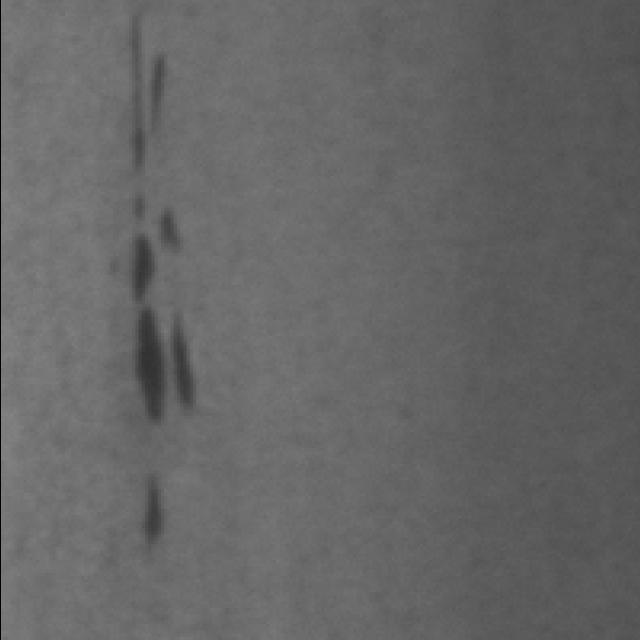inclusion: (106, 4, 186, 166), (119, 306, 219, 430), (124, 190, 192, 284), (122, 474, 184, 558)
